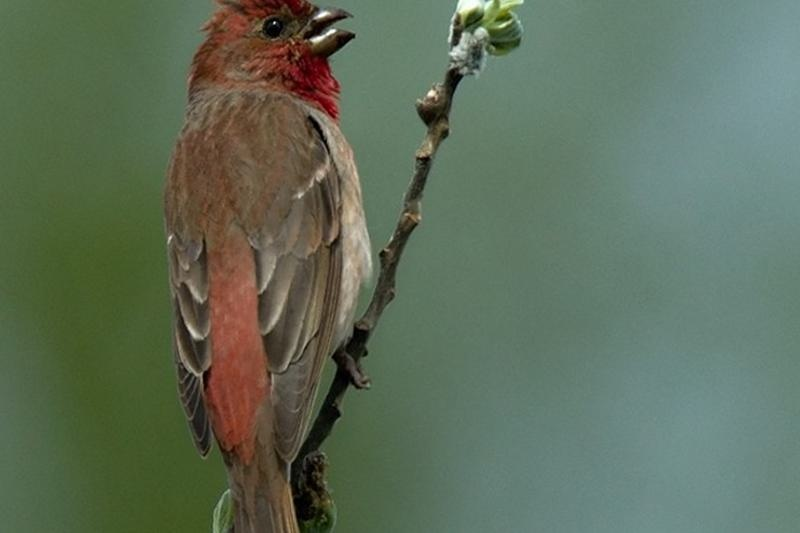rosefinch: (185, 9, 382, 487)
